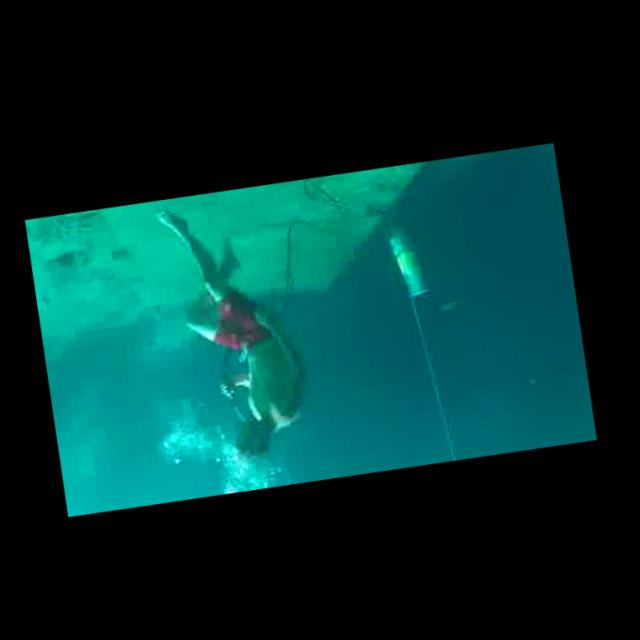human: (141, 179, 333, 480)
